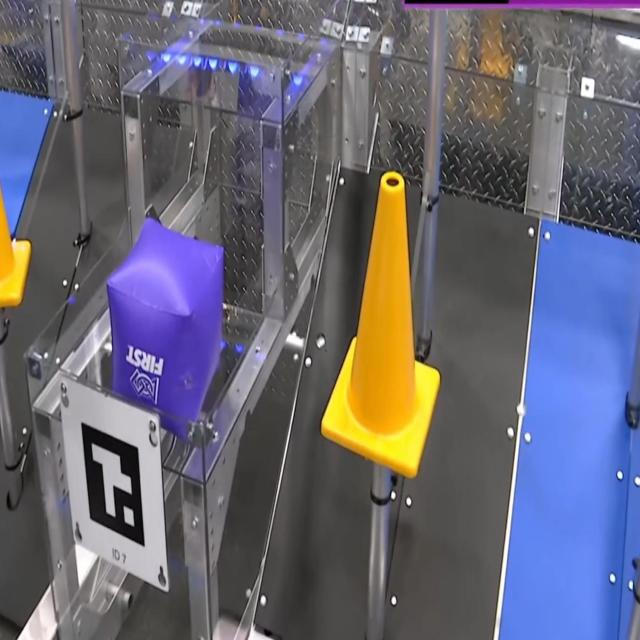frc_cone: (319, 162, 441, 482), (0, 75, 32, 309)
frc_cube: (111, 207, 224, 440)
